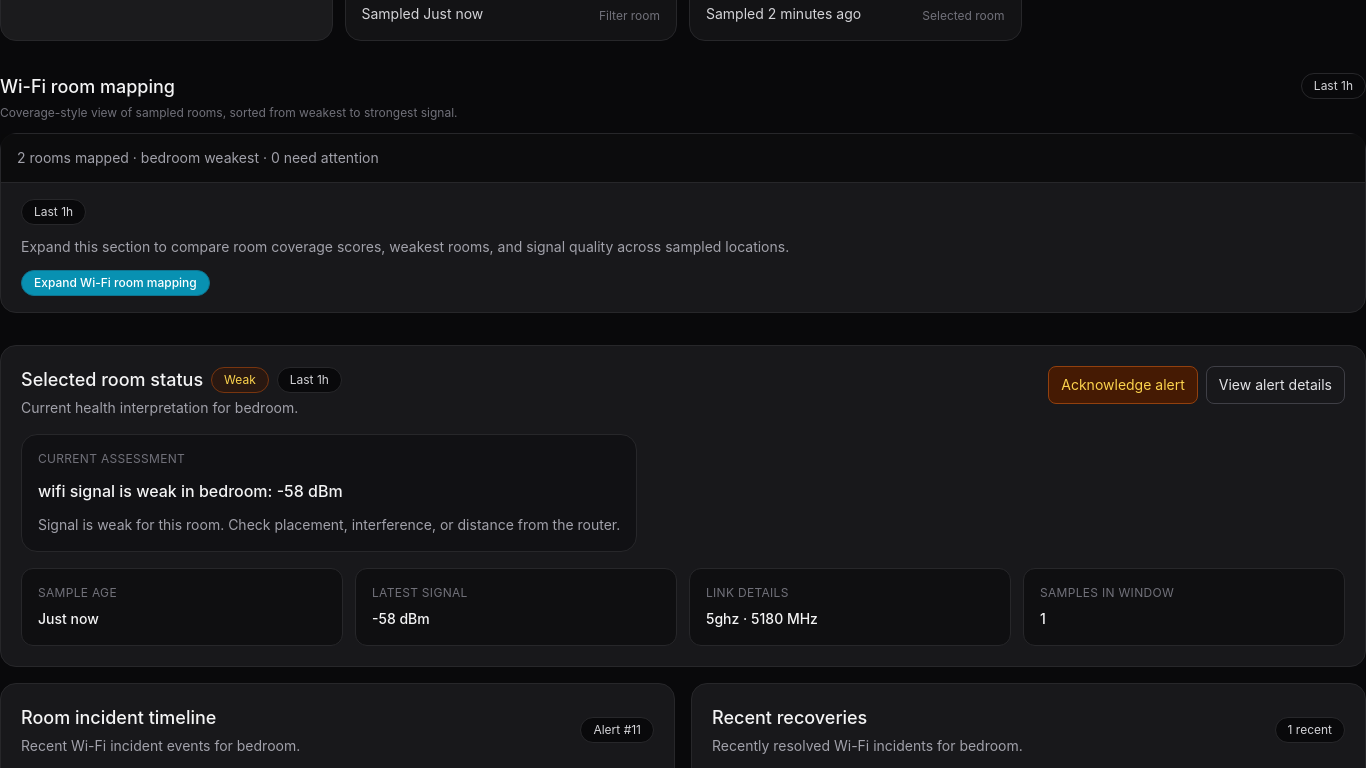
WifiPage › opens alert detail drawer from selected room panel
(page scrolled)
Click the button "View alert details": (1275, 384) [1206,366,1345,404]
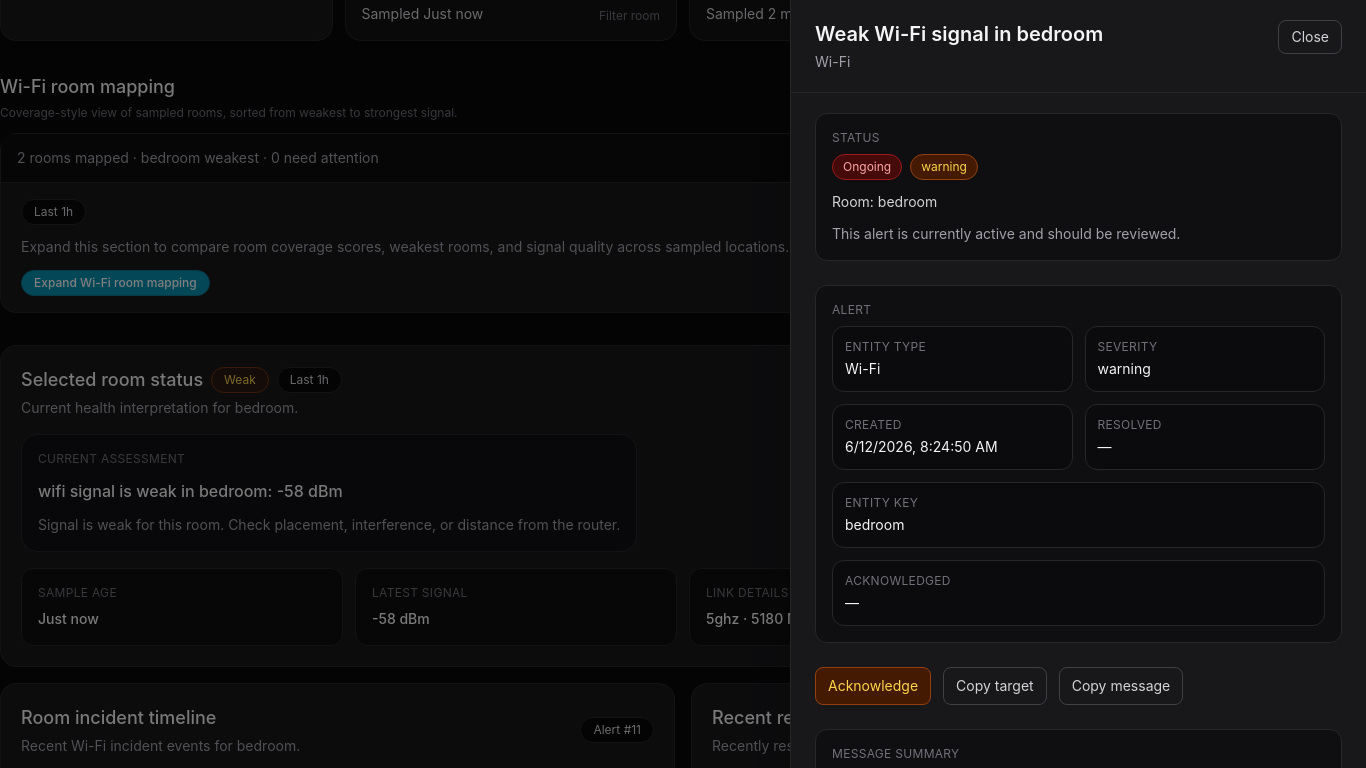
Expected: the text "wifi signal is weak in bedroom: -58 dBm" is shown, [38,480,343,500]
Now the button "Acknowledge" is shown, box [815,667,931,705]
